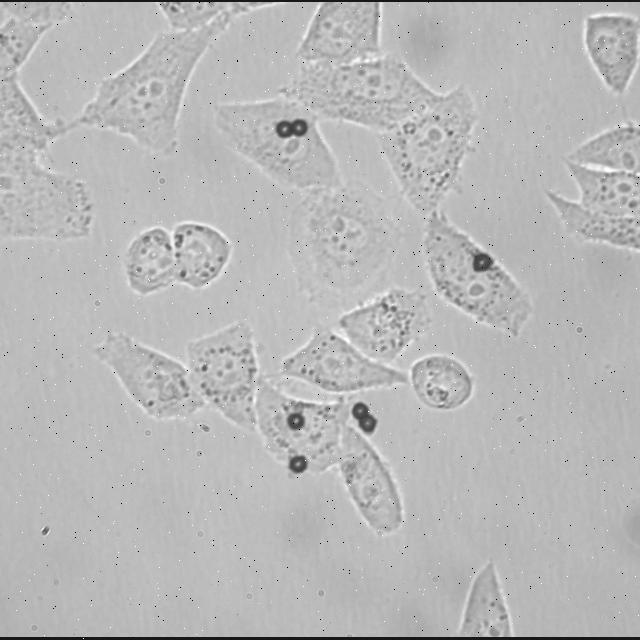microbeads: (471, 254, 493, 276), (286, 456, 310, 476), (359, 418, 381, 436), (293, 120, 311, 140), (286, 413, 304, 432), (352, 404, 370, 422), (275, 122, 293, 138)
